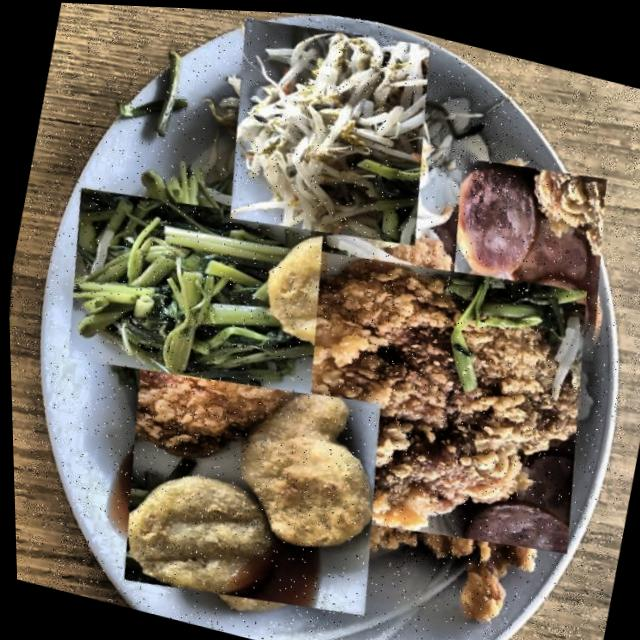Food: (226, 200, 611, 589), (97, 335, 402, 640), (54, 148, 333, 429), (200, 7, 459, 259), (420, 135, 631, 383)
